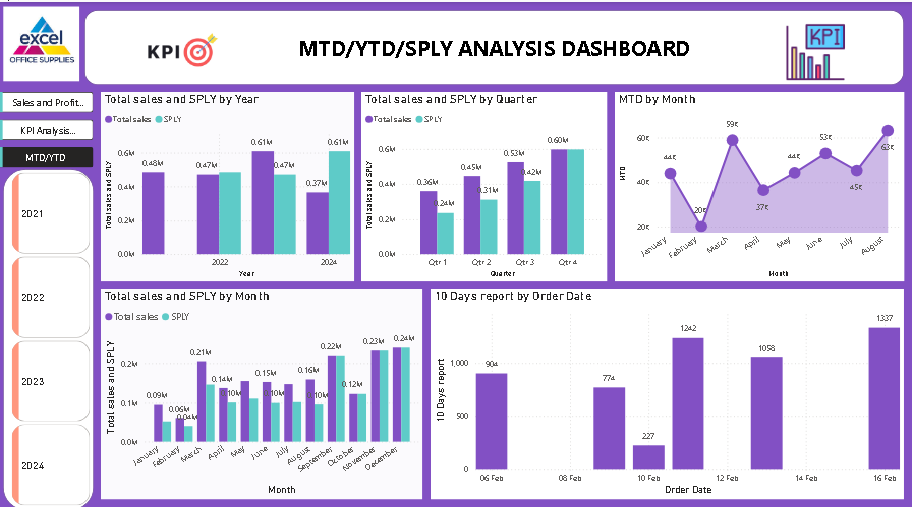

What the dashboard file says about the page in this screenshot:
{"tool":"powerbi","page":{"name":"MTD/YTD ","canvas":[1280,720],"ordinal":2},"visuals":[{"type":"image","box":[0,1.4,138.9,116.2],"z":0},{"type":"shape","box":[129,11.3,1140.9,106.3],"z":1000},{"type":"shape","box":[15.6,236.7,126.1,483.3],"z":2000},{"type":"pageNavigator","box":[7.1,127.6,134.6,109.1],"z":3000},{"type":"image","box":[1038.9,24.1,215.4,93.5],"z":4000},{"type":"image","box":[151.7,29.8,226.8,82.2],"z":5000},{"type":"advancedSlicerVisual","fields":{"Values":["Sales_Revenue.Order Date.Variation.Date Hierarchy.Year"]},"box":[22.7,236.7,119.1,483.3],"z":6000},{"type":"areaChart","fields":{"Category":["Sales_Revenue.Order Date.Variation.Date Hierarchy.Year","Sales_Revenue.Order Date.Variation.Date Hierarchy.Quarter","Sales_Revenue.Order Date.Variation.Date Hierarchy.Month","Sales_Revenue.Order Date.Variation.Date Hierarchy.Day"],"Y":["Sales_Revenue.MTD"]},"box":[867.4,127.6,402.5,267.9],"z":7000},{"type":"clusteredColumnChart","fields":{"Category":["Sales_Revenue.Order Date.Variation.Date Hierarchy.Year"],"Y":["Sales_Revenue.Total sales","Sales_Revenue.SPLY"]},"box":[151.7,127.6,352.9,267.9],"z":8000},{"type":"clusteredColumnChart","fields":{"Y":["Sales_Revenue.Total sales","Sales_Revenue.SPLY"],"Category":["Sales_Revenue.Order Date.Variation.Date Hierarchy.Quarter"]},"box":[514.5,127.6,341.6,267.9],"z":9000},{"type":"clusteredColumnChart","fields":{"Y":["Sales_Revenue.Total sales","Sales_Revenue.SPLY"],"Category":["Sales_Revenue.Order Date.Variation.Date Hierarchy.Month"]},"box":[151.7,406.8,447.9,297.6],"z":10000},{"type":"clusteredColumnChart","fields":{"Y":["Sales_Revenue.10 Days report"],"Category":["Sales_Revenue.Order Date"]},"box":[610.9,406.8,659.1,297.6],"z":11000}]}

Visuals, with their boxes in screenshot pixels (x1, y1, x2, y2), scaled from the page's 1280x720 canvas onto the 912x507 screenshot:
image: 0/1/99/83
shape: 92/8/905/83
shape: 11/167/101/506
pageNavigator: 5/90/101/167
image: 740/17/894/83
image: 108/21/270/79
advancedSlicerVisual - Sales_Revenue.Order Date.Variation.Date Hierarchy.Year: 16/167/101/506
areaChart - Sales_Revenue.Order Date.Variation.Date Hierarchy.Year x Sales_Revenue.Order Date.Variation.Date Hierarchy.Quarter: 618/90/905/278
clusteredColumnChart - Sales_Revenue.Order Date.Variation.Date Hierarchy.Year x Sales_Revenue.Total sales: 108/90/360/278
clusteredColumnChart - Sales_Revenue.Total sales x Sales_Revenue.SPLY: 367/90/610/278
clusteredColumnChart - Sales_Revenue.Total sales x Sales_Revenue.SPLY: 108/286/427/496
clusteredColumnChart - Sales_Revenue.10 Days report x Sales_Revenue.Order Date: 435/286/905/496
